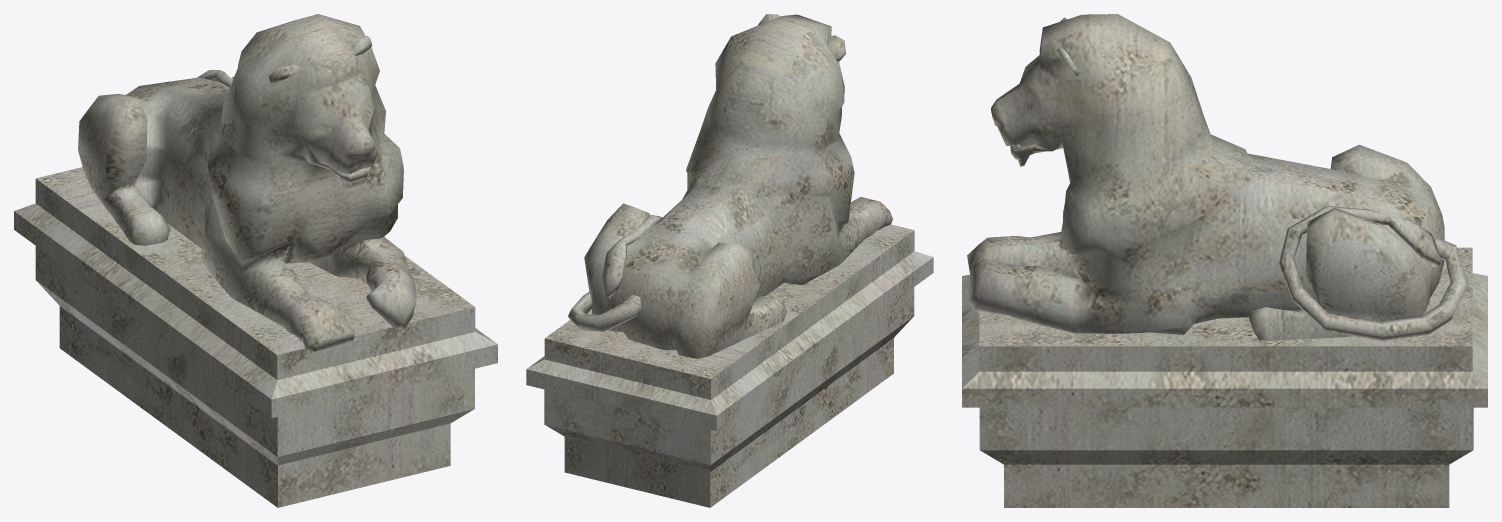
Rendered from Model_Statue_01.fbx.
3 views of the same model, side by side, from view 1: azimuth 30°, elevation 25°; view 2: azimuth 150°, elevation 25°; view 3: azimuth 270°, elevation 25° (orthographic). The views are drawn at different scales.
Parts seen in each view (by area): view 1: Statue_00; view 2: Statue_00; view 3: Statue_00.
Part boxes in pixels (x1=…): Statue_00: x1=14, y1=14, x2=497, y2=507; Statue_00: x1=526, y1=14, x2=933, y2=507; Statue_00: x1=962, y1=14, x2=1487, y2=507.
Bounding box in the file's own units: 121 × 219 × 238.
